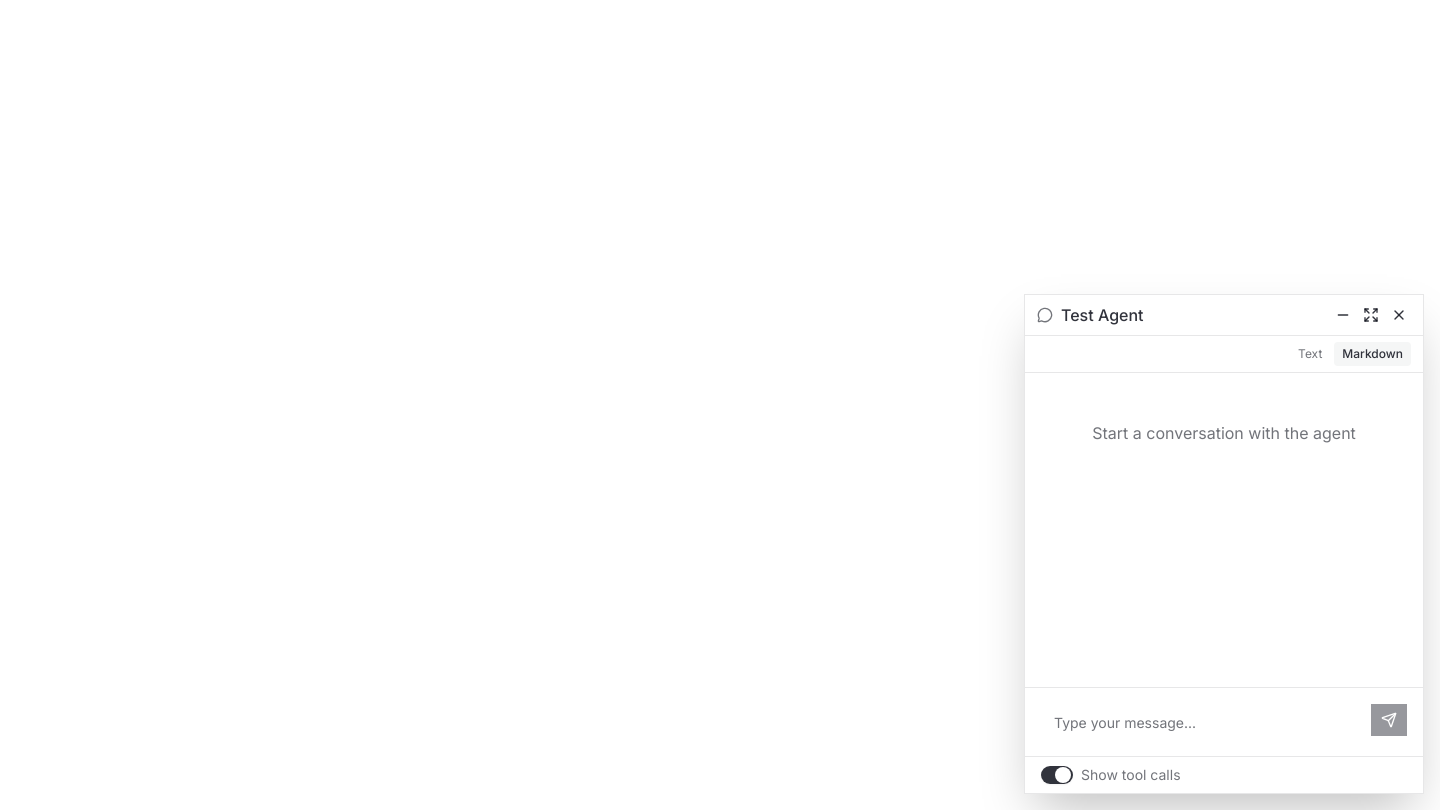
it: FloatingChat › window state management › maximized state › should show restore size button when maximized
The width and height of the screenshot is (1440, 810).
Click the button named "maximize chat": (1371, 315) [1359,303,1383,327]
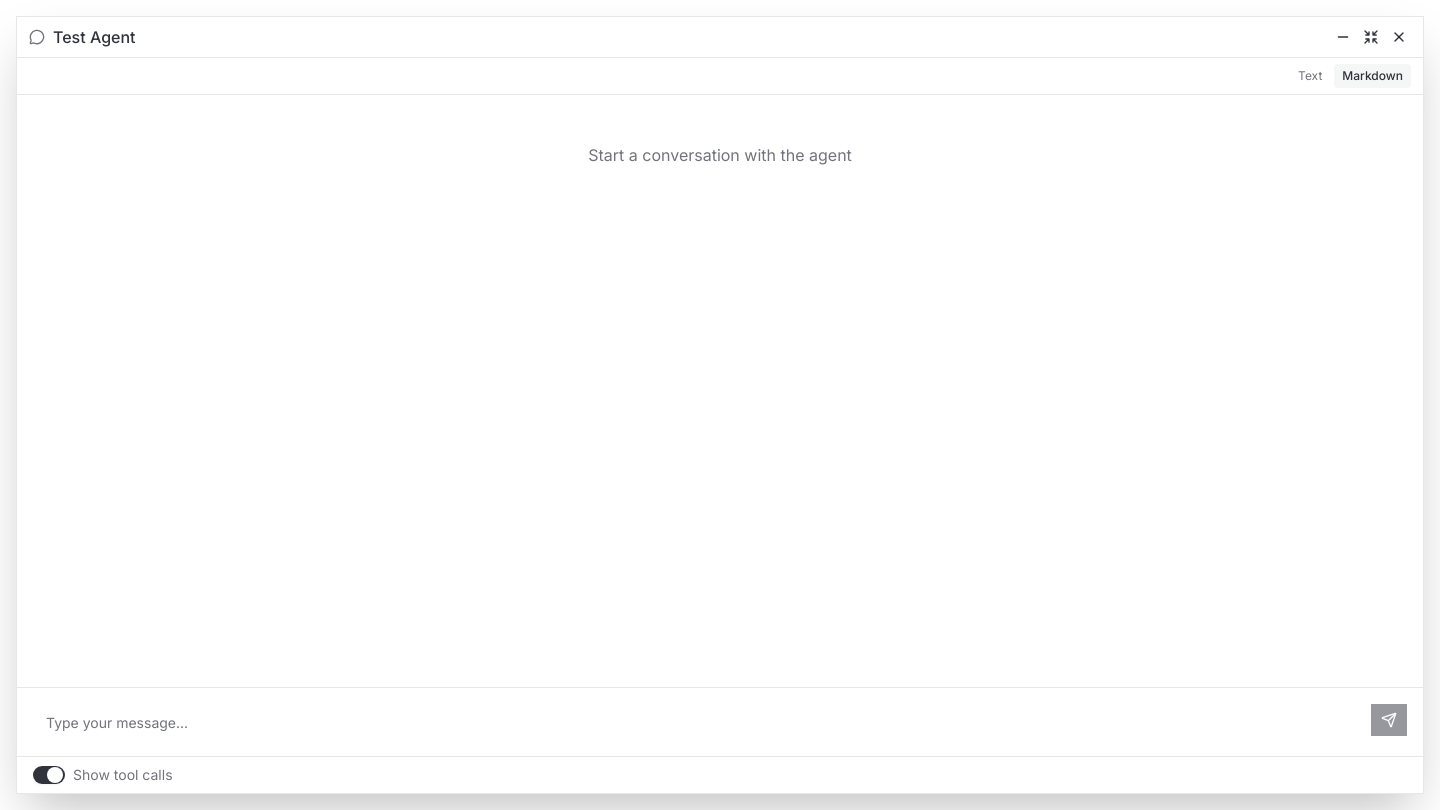
Expected: the button named "restore size" is shown, [1359,25,1383,49]
